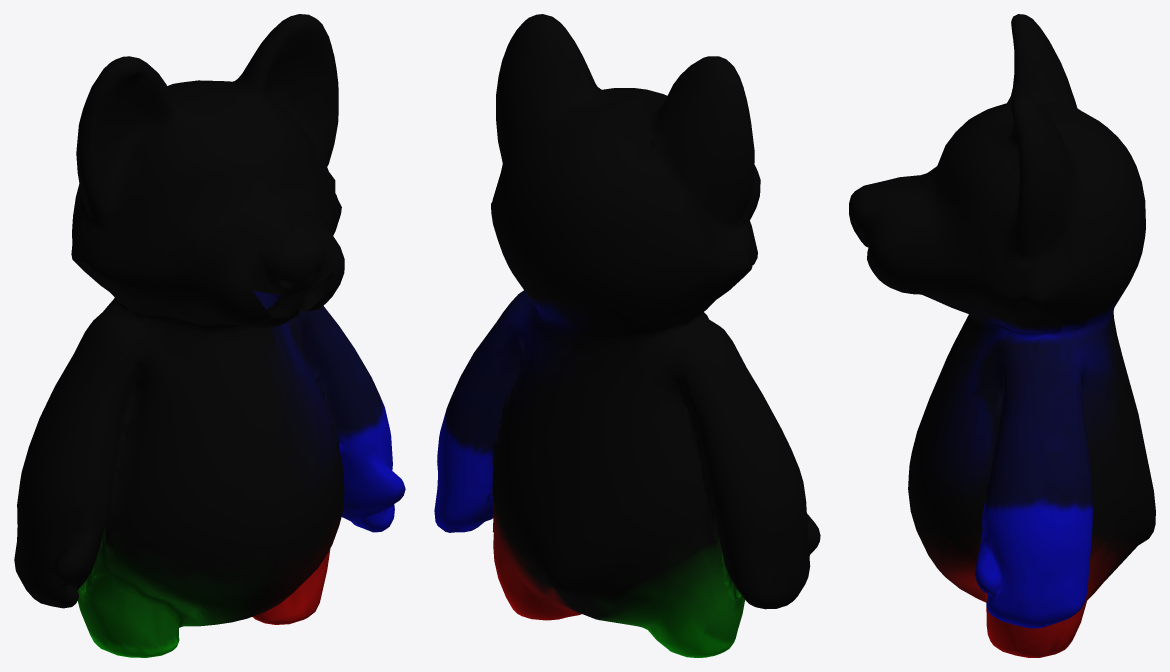
The model's file is nemo_table_undercoat_v2.glb.
The picture shows the model from 3 angles, left to right: view 1: azimuth 30°, elevation 25°; view 2: azimuth 150°, elevation 25°; view 3: azimuth 270°, elevation 25°; orthographic projection. The views are drawn at different scales.
Visible parts, largest first — view 1: BoundedShellGroom; view 2: BoundedShellGroom; view 3: BoundedShellGroom.
Boxes of the visible parts, left/top/right/bottom form: BoundedShellGroom: left=14, top=14, right=405, bottom=657; BoundedShellGroom: left=434, top=14, right=820, bottom=657; BoundedShellGroom: left=849, top=14, right=1155, bottom=657.
Bounding box in the file's own units: 1.68 × 2.66 × 1.33.
Materials: 1 (1 with a texture image).
